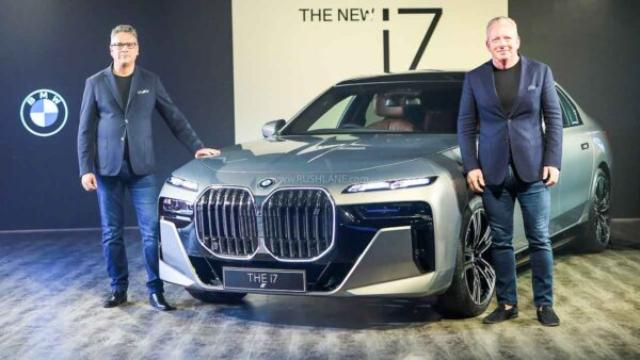bmw: (157, 69, 615, 319)
